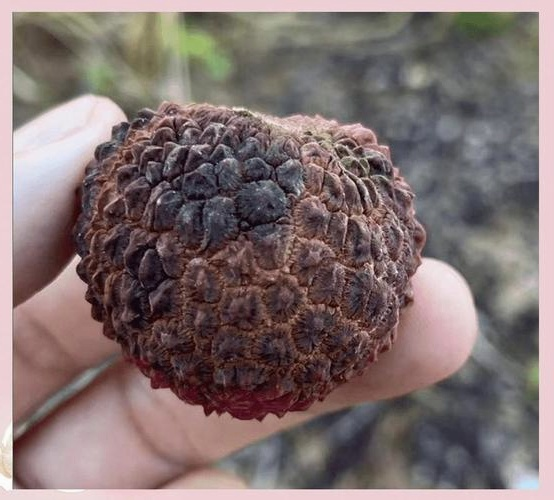Anthracnose: (117, 146, 376, 381)
